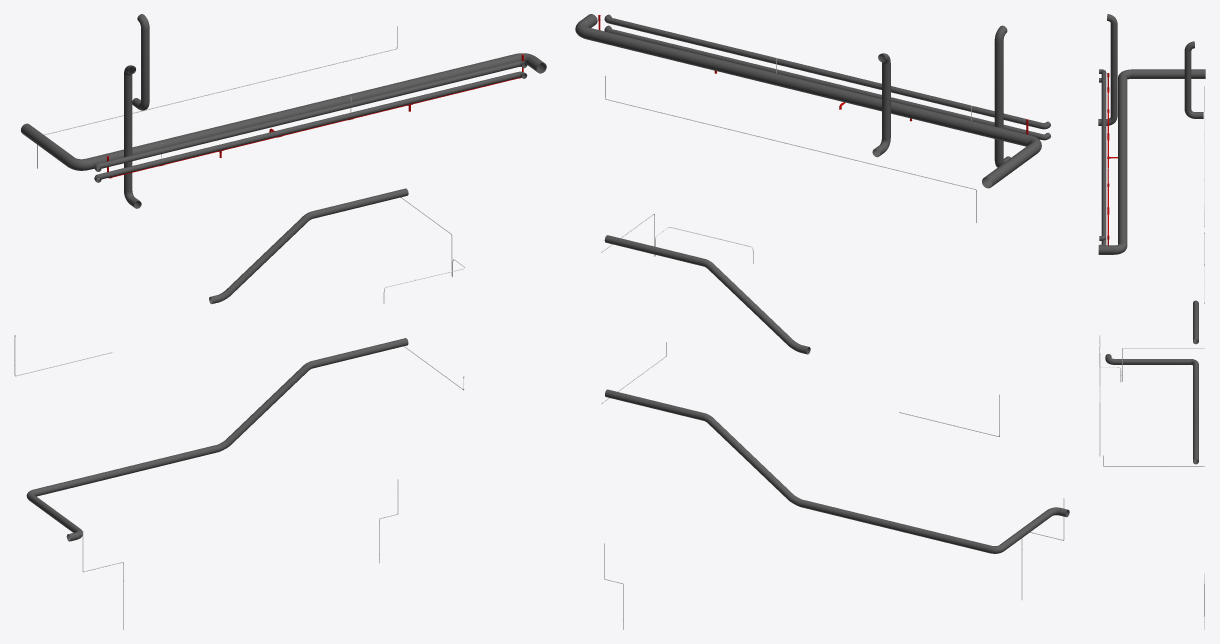
3 renders of one model, left to right at view 1: azimuth 30°, elevation 25°; view 2: azimuth 150°, elevation 25°; view 3: azimuth 270°, elevation 25°, orthographic. The views are drawn at different scales.
Visible parts, largest first — view 1: SM_H_Building_FutureTech_HBlack_01_InterWall_05F; view 2: SM_H_Building_FutureTech_HBlack_01_InterWall_05F; view 3: SM_H_Building_FutureTech_HBlack_01_InterWall_05F.
Part boxes in pixels (box(x1,y1,x2,y2)): SM_H_Building_FutureTech_HBlack_01_InterWall_05F: box(14, 14, 546, 629); SM_H_Building_FutureTech_HBlack_01_InterWall_05F: box(575, 14, 1069, 629); SM_H_Building_FutureTech_HBlack_01_InterWall_05F: box(1098, 14, 1205, 629).
Size of the model in its own units: 187 by 765 by 955.
